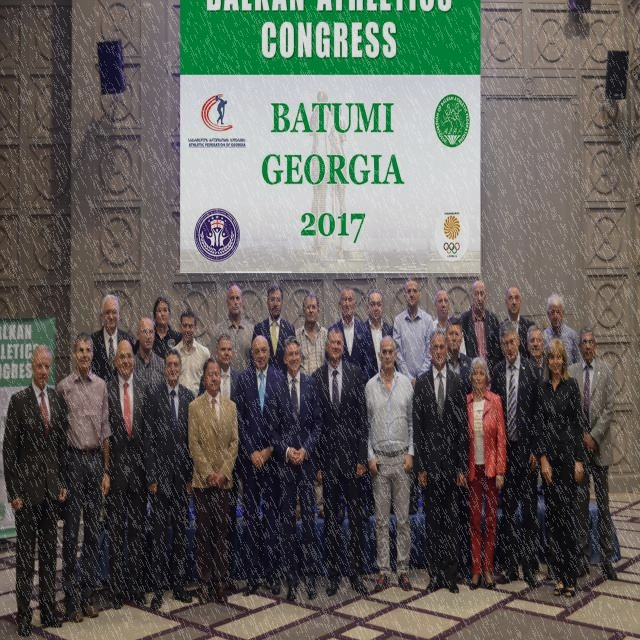pessoa: (0, 340, 68, 640), (53, 330, 113, 624), (408, 326, 469, 598), (264, 332, 324, 602), (311, 324, 369, 596), (488, 316, 543, 590), (362, 332, 419, 593), (565, 326, 621, 582), (143, 348, 197, 610), (534, 336, 586, 599), (104, 338, 154, 611), (187, 356, 240, 606), (235, 333, 285, 598), (457, 357, 507, 591), (209, 284, 256, 520), (392, 276, 435, 516), (196, 330, 242, 542), (524, 324, 559, 580), (363, 290, 399, 517), (294, 292, 329, 522), (458, 280, 500, 392), (326, 287, 372, 389), (90, 293, 135, 385), (250, 284, 296, 372), (170, 308, 212, 398), (492, 284, 536, 367), (542, 293, 581, 368), (132, 316, 166, 388), (432, 288, 466, 358), (444, 316, 474, 394), (152, 296, 183, 360)
